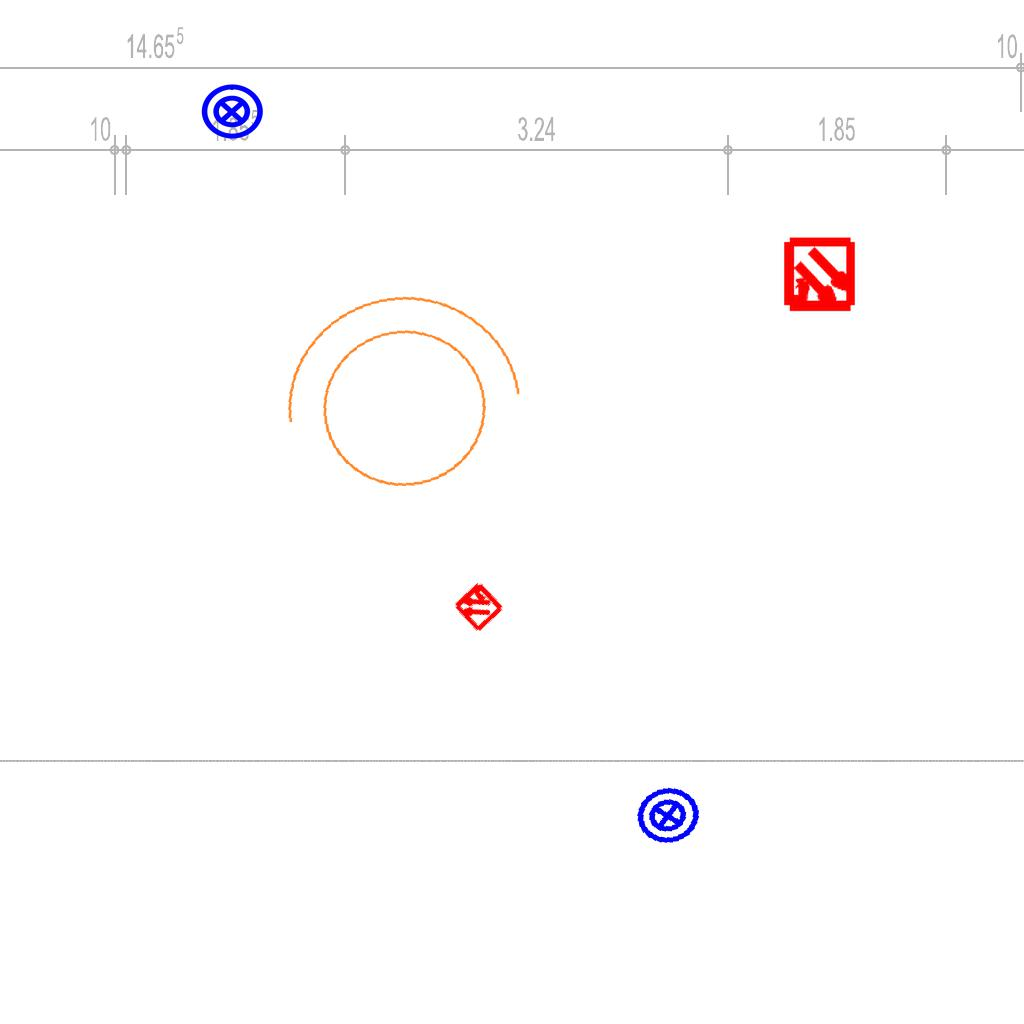OT_Multisensormelder_(Kombination_RMO_WMD): (763, 220, 876, 333), (438, 566, 518, 646)
Scheinwerfer_fuer_Alarmbeleuchtung: (252, 271, 542, 528)
Taster_beleuchtet: (629, 777, 707, 855), (199, 79, 265, 145)
